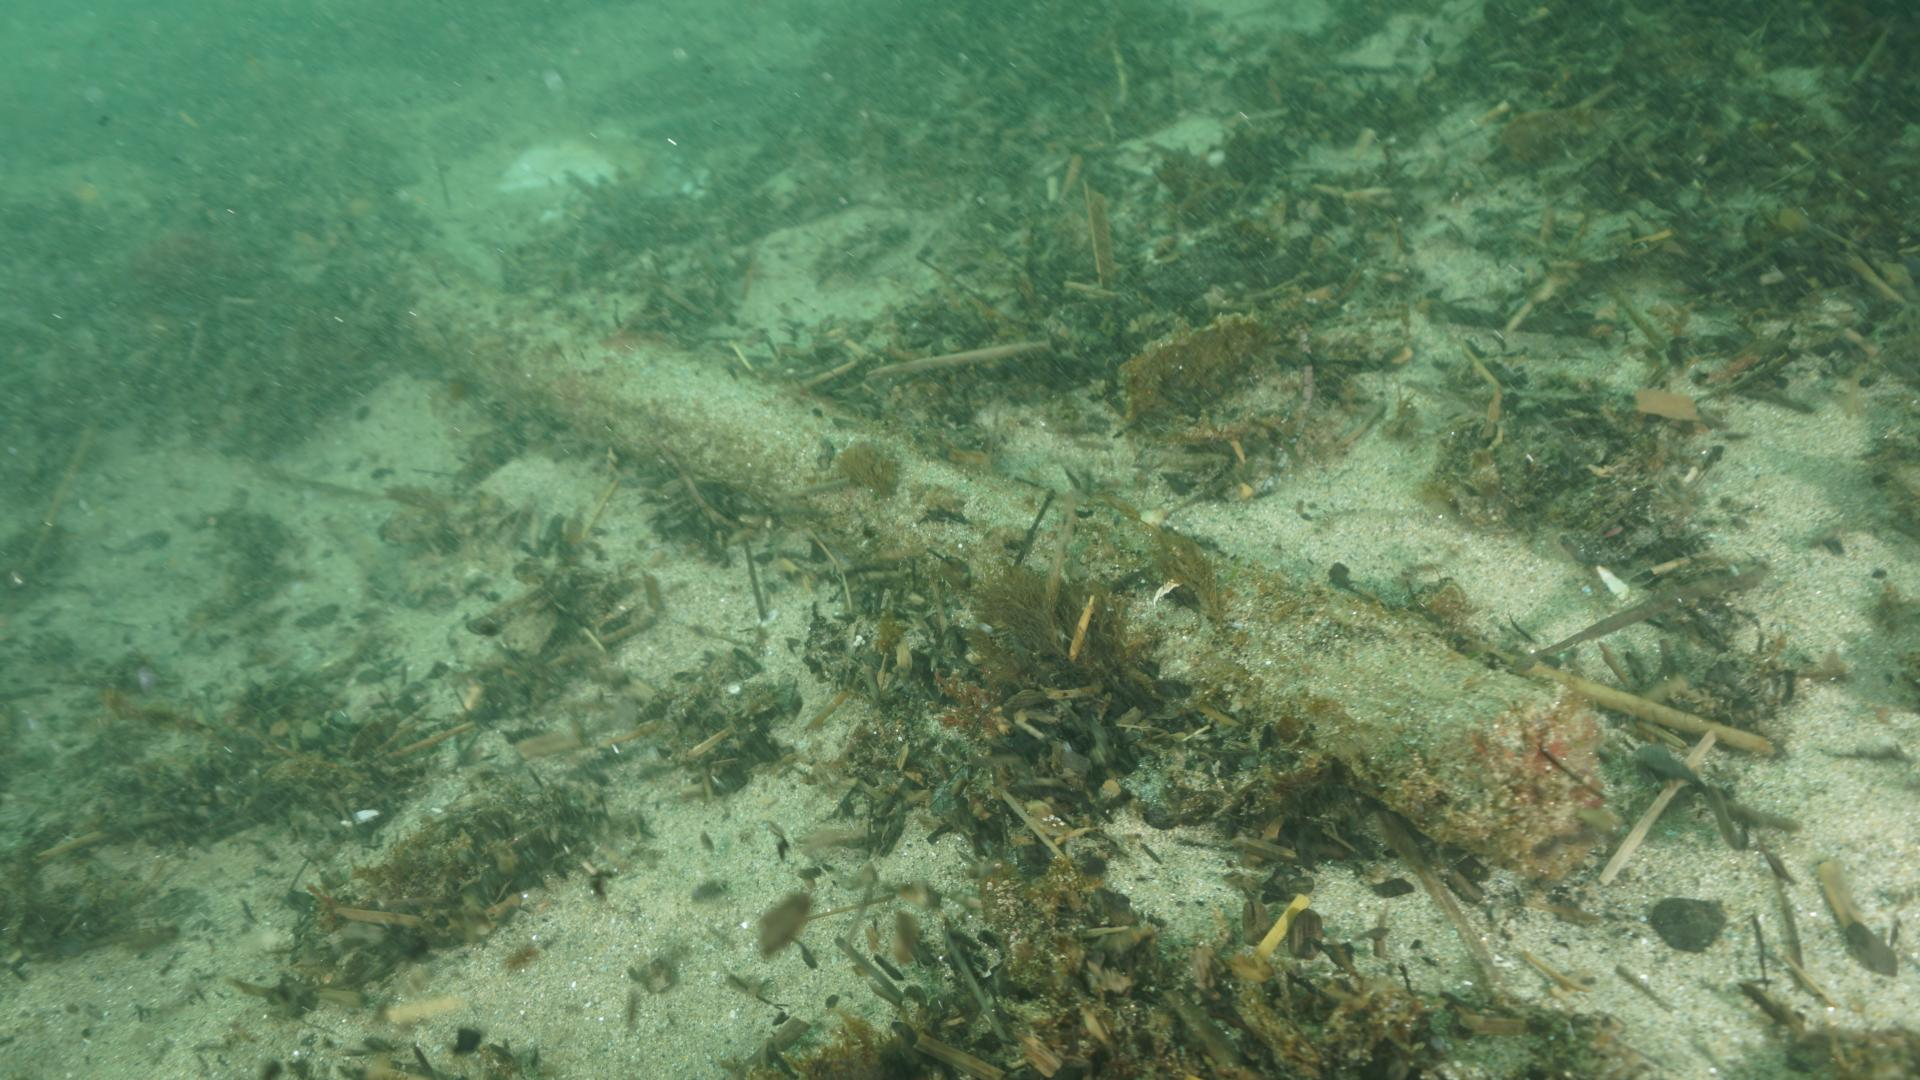wood: (409, 289, 1630, 889)
